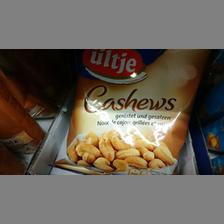Nuss: (46, 49, 208, 173)
